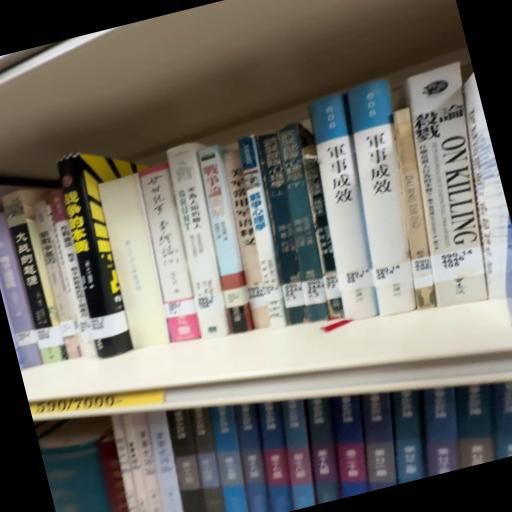backward: (92, 176, 178, 355)
book: (322, 80, 442, 324), (289, 94, 398, 328)
